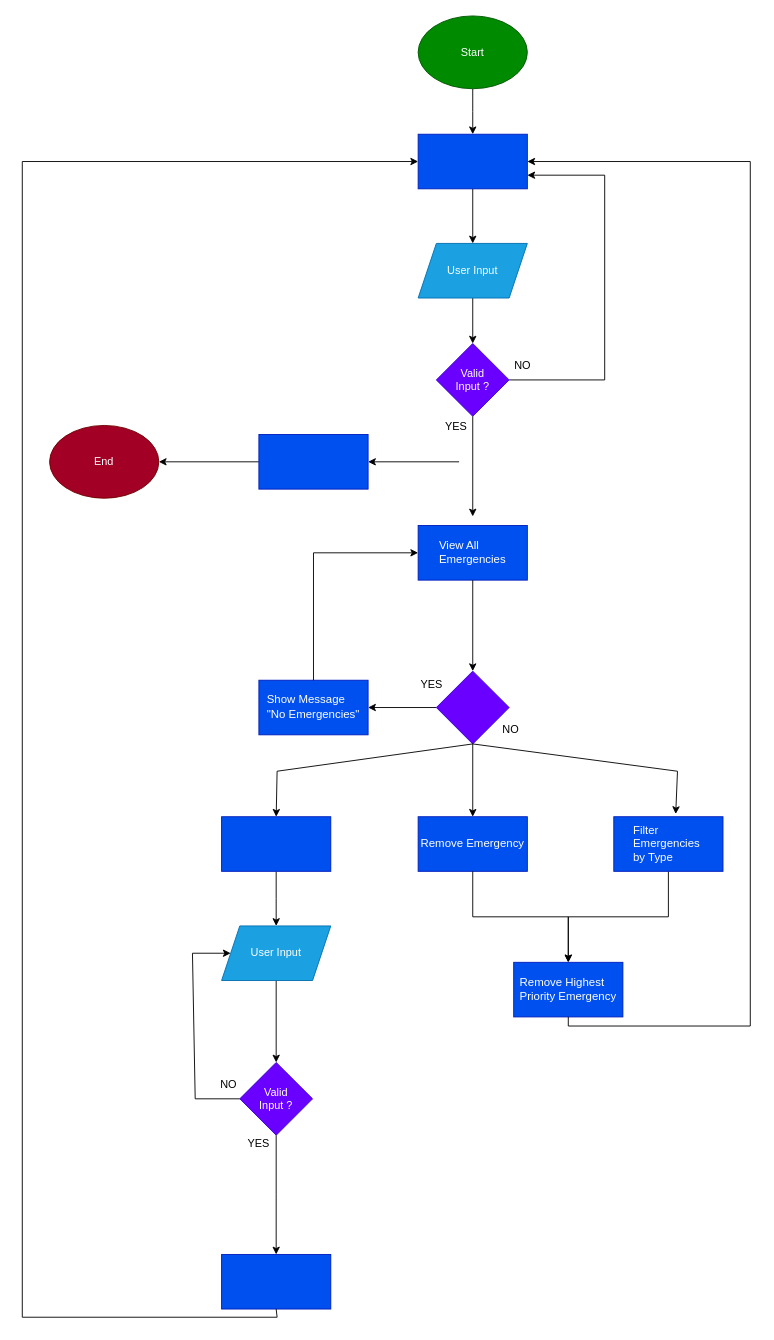
This 774x1340 diagram has some shape labels left out. The shapes that lost their labels are listed below. From the top down, each one's centre as x and y in pixels, then its label:
At point 472,161: "Show Choices".
At point 313,461: "Exit".
At point 472,707: "Queue is Empty ?".
At point 276,843: "Add Emergency".
At point 276,1281: "Show Successfully Added Message".
